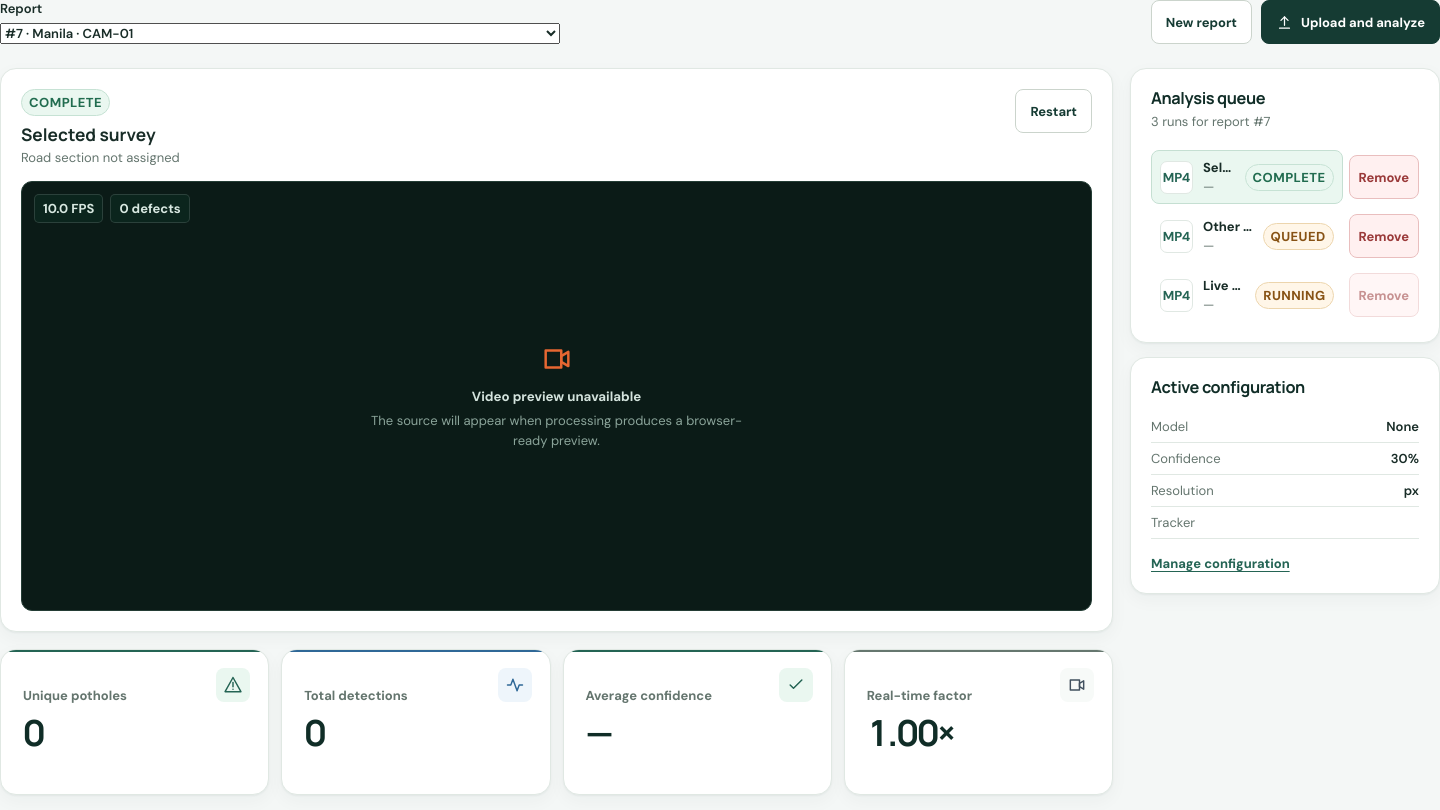
Test case: analysis queue removal › clears the deleted selection and reloads the queue
Click the button with aria-label "Remove Selected survey": (1384, 177) [1349,155,1419,199]
(page scrolled)
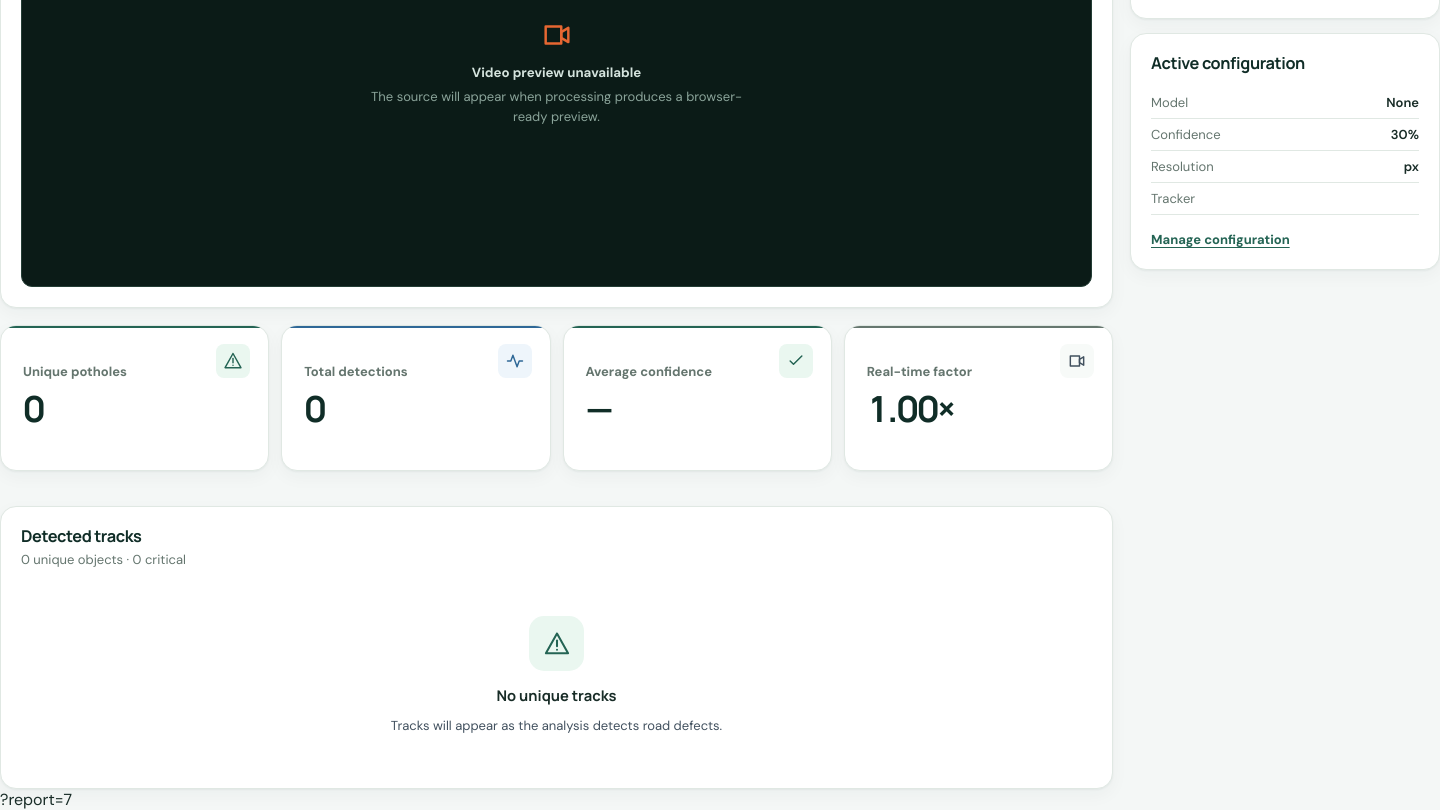
Check: the text with test id "current-search" reads "?report=7", box [0,789,72,809]
